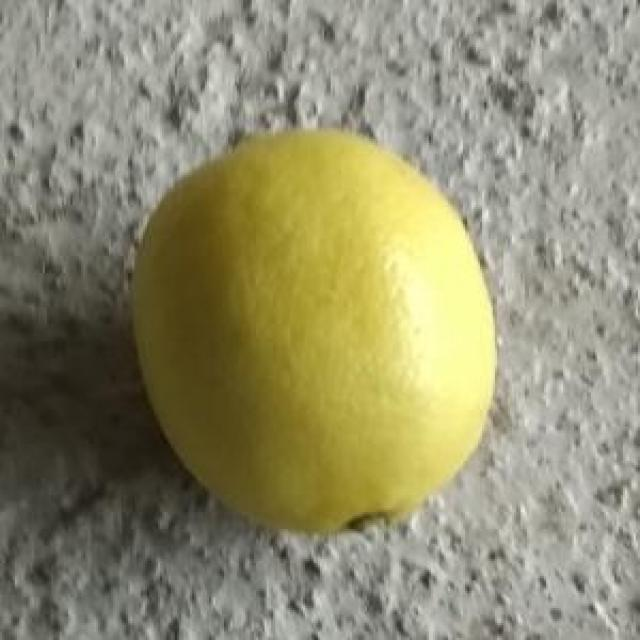lemon: (132, 130, 505, 538)
